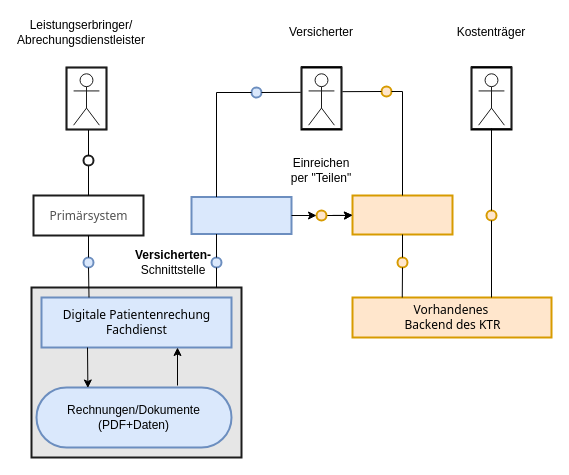
Some shapes in this 569 by 475 pixel diagram are drawn without their labels. The shapes that lost their labels are listed below. From the top down, each one's centre as x and y in pixels, then its label:
the point at 241,215: FdV
the point at 402,214: Service-App des KTR
